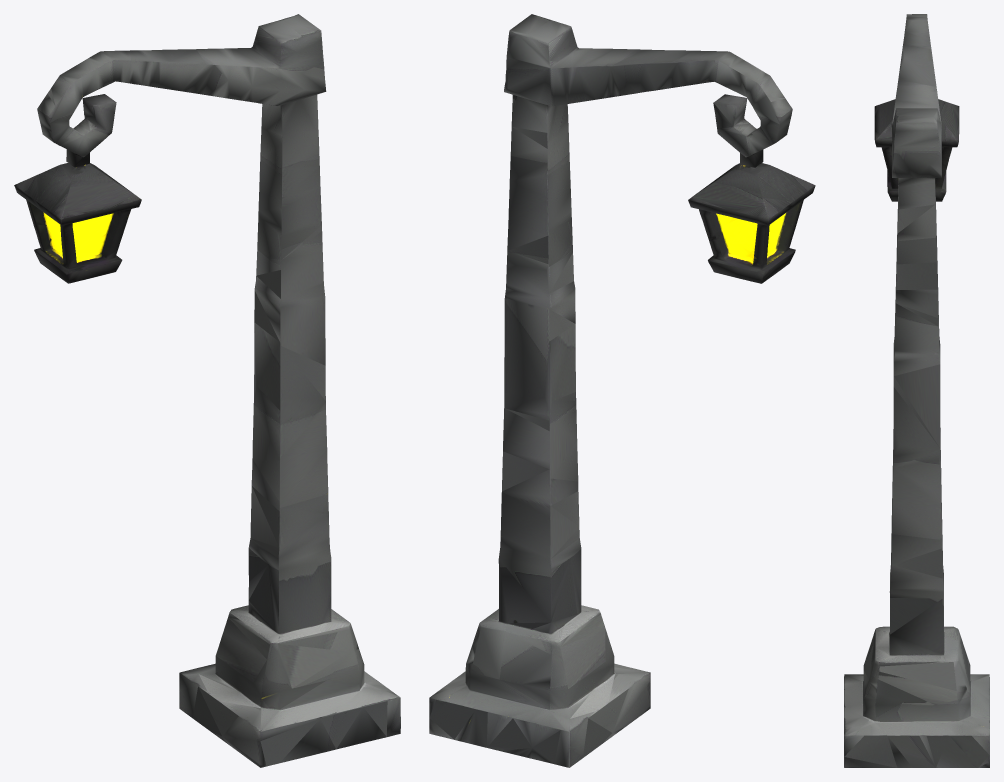
The model's file is Object_Streetlight.fbx.
3 views of the same model, side by side, from view 1: azimuth 30°, elevation 25°; view 2: azimuth 150°, elevation 25°; view 3: azimuth 270°, elevation 25° (orthographic). The views are drawn at different scales.
Visible parts, largest first — view 1: Mesh_0; view 2: Mesh_0; view 3: Mesh_0.
Boxes of the visible parts, box(x1,y1,x2,y2) form: Mesh_0: box(14, 14, 400, 767); Mesh_0: box(429, 14, 815, 767); Mesh_0: box(844, 14, 989, 767).
Bounding box in the file's own units: 90.26 × 190 × 39.38.
